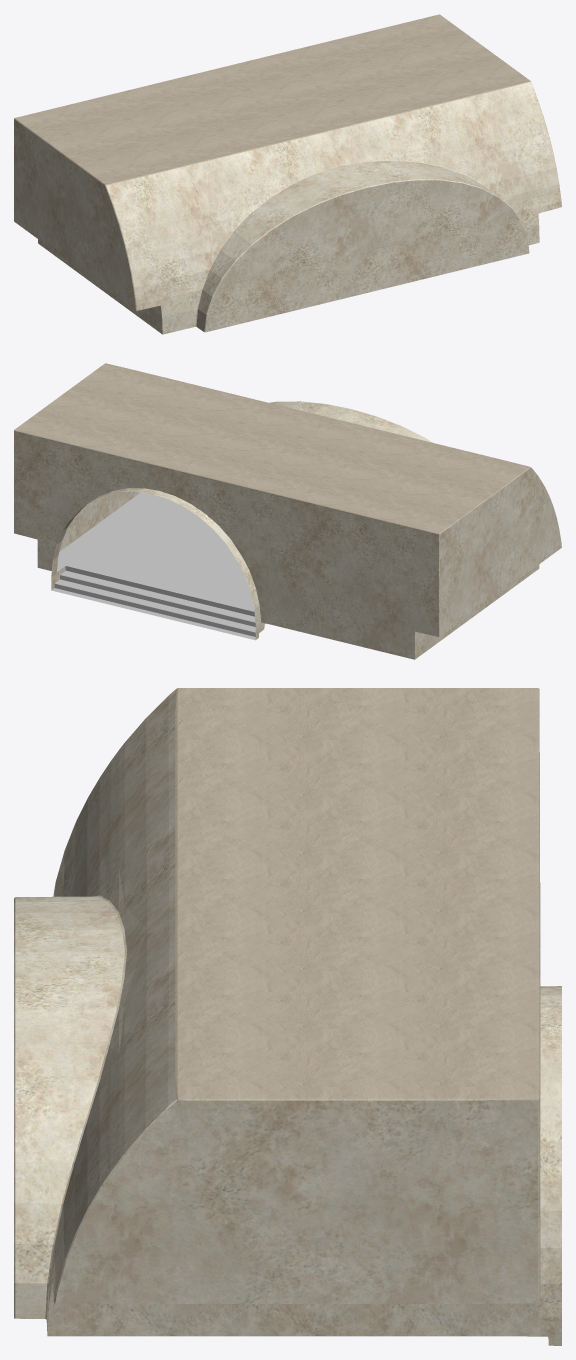
The model's file is thm_tato_house_m_s01_fp1_r3_bedroom1_mesh_r3.fbx.
The picture shows the model from 3 angles, top to bottom: view 1: azimuth 30°, elevation 25°; view 2: azimuth 150°, elevation 25°; view 3: azimuth 270°, elevation 25°; orthographic projection. The views are drawn at different scales.
Visible parts, largest first — view 1: mesh_node; view 2: mesh_node; view 3: mesh_node.
Boxes of the visible parts, x1=… form: mesh_node: x1=14, y1=14, x2=561, y2=334; mesh_node: x1=14, y1=363, x2=561, y2=659; mesh_node: x1=14, y1=688, x2=561, y2=1345.
Size of the model in its own units: 14.24 by 4.65 by 8.01.
